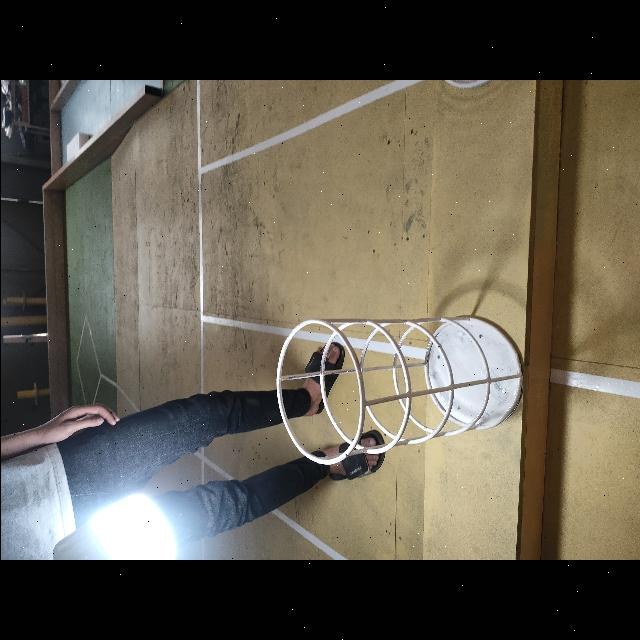S: (264, 307, 531, 468)
